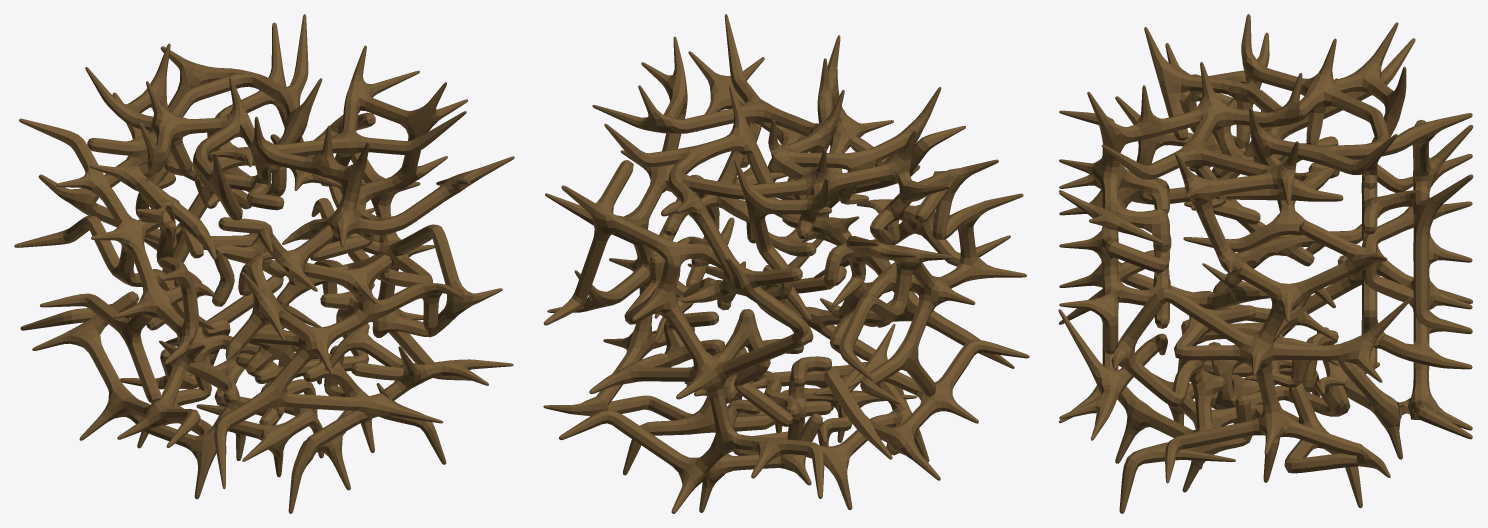
3 views of the same model, side by side, from view 1: azimuth 30°, elevation 25°; view 2: azimuth 150°, elevation 25°; view 3: azimuth 270°, elevation 25° (orthographic). The views are drawn at different scales.
Visible parts, largest first — view 1: Vert.084; view 2: Vert.084; view 3: Vert.084.
Boxes of the visible parts, x1=… form: Vert.084: x1=14, y1=14, x2=514, y2=513; Vert.084: x1=543, y1=14, x2=1029, y2=513; Vert.084: x1=1058, y1=14, x2=1473, y2=513.
Size of the model in its own units: 200 by 200 by 200.
